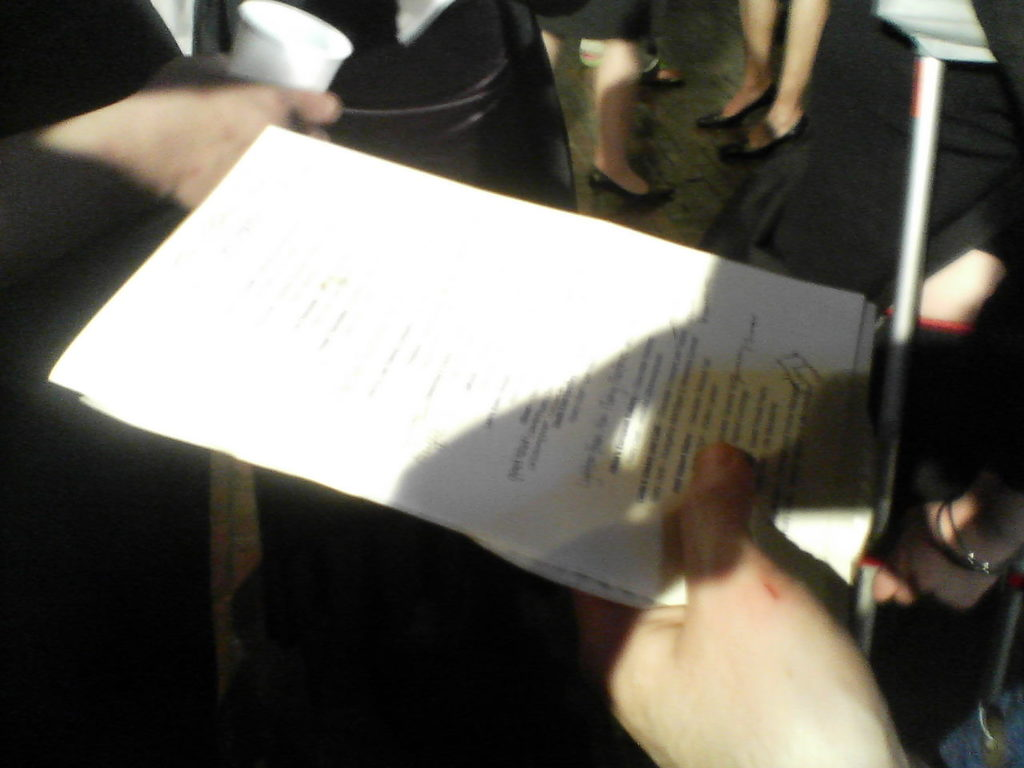Footwear: (581, 159, 682, 219), (714, 111, 806, 159), (697, 82, 774, 130), (639, 54, 686, 90)
